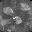people: (0, 16, 11, 31), (3, 7, 15, 16), (13, 16, 22, 25)
